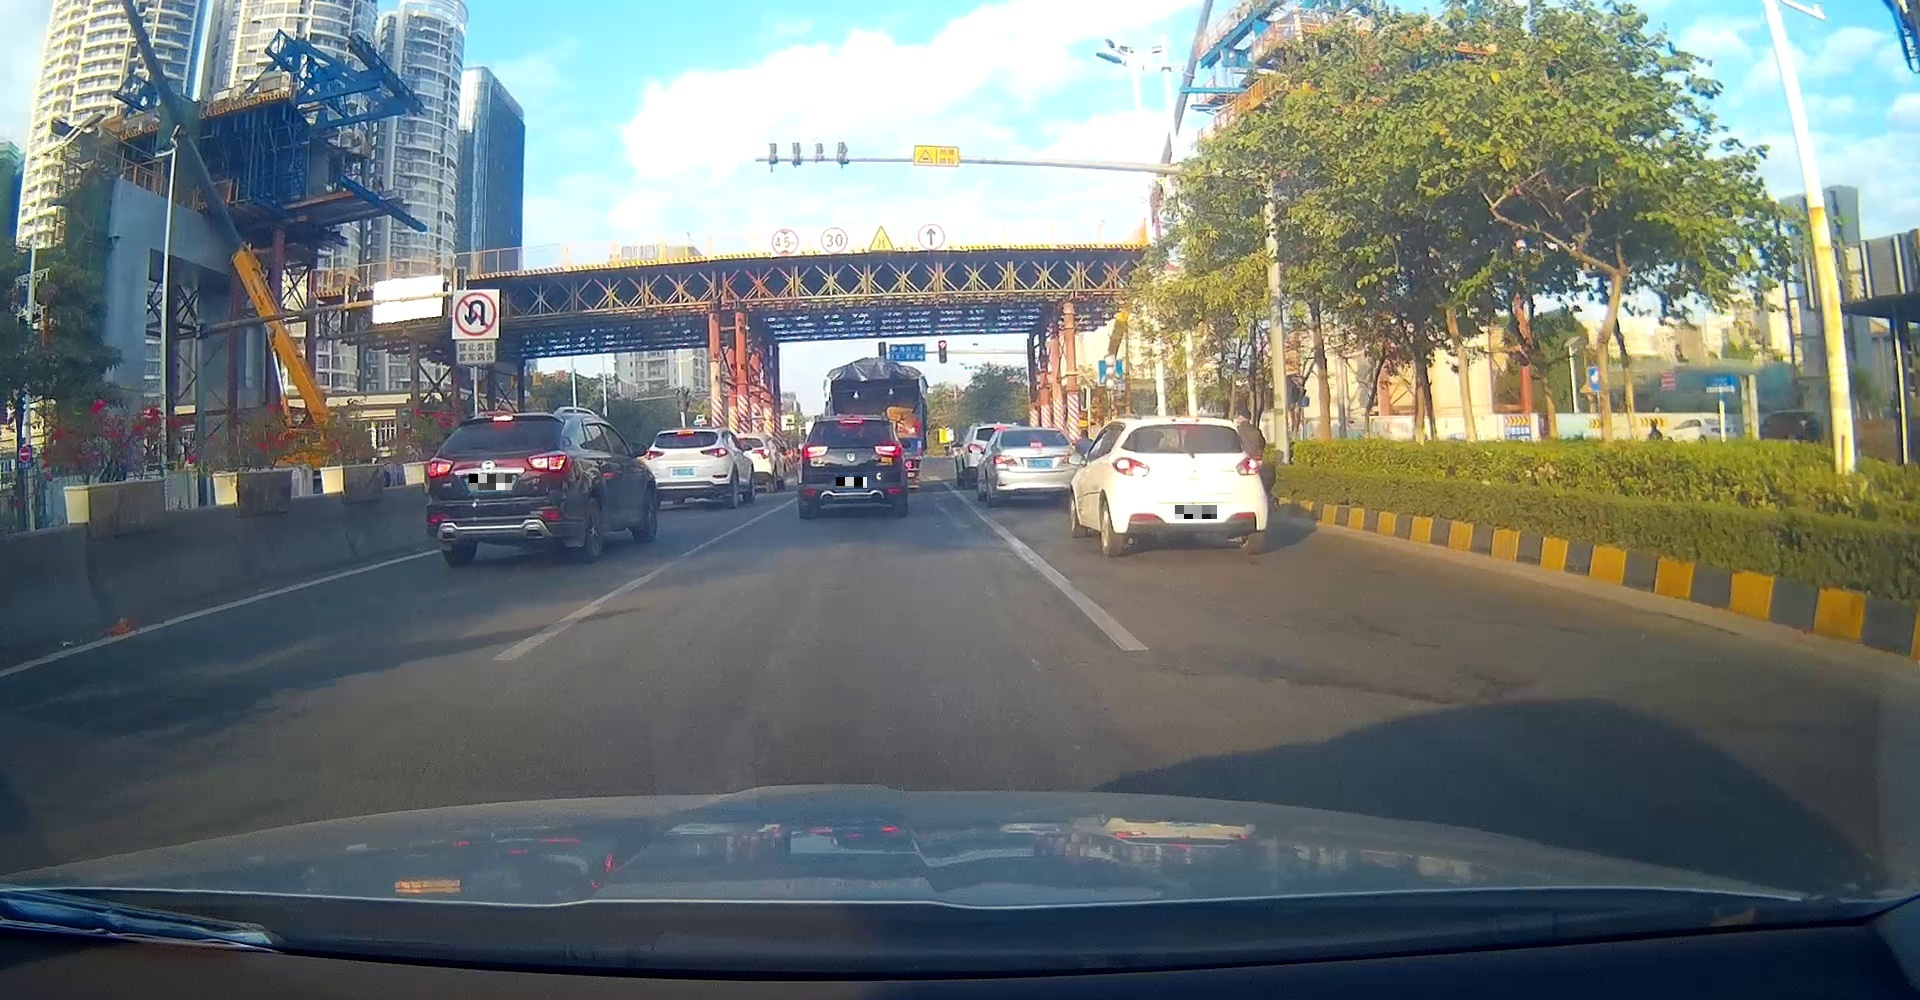L_light: (1112, 456, 1150, 476), (427, 457, 455, 478), (803, 444, 829, 458), (644, 451, 665, 459)
R_light: (527, 451, 568, 472), (1236, 456, 1261, 476), (875, 444, 903, 457), (700, 447, 729, 457)
T_light: (1172, 418, 1199, 423), (494, 416, 513, 423), (841, 419, 863, 424), (676, 431, 695, 435)
day-brake: (424, 412, 574, 566), (1110, 416, 1269, 553), (796, 415, 908, 516), (644, 426, 731, 508)
plate_1: (469, 475, 512, 490)
plate_2: (836, 477, 867, 489)
plate_3: (1175, 505, 1217, 519)
